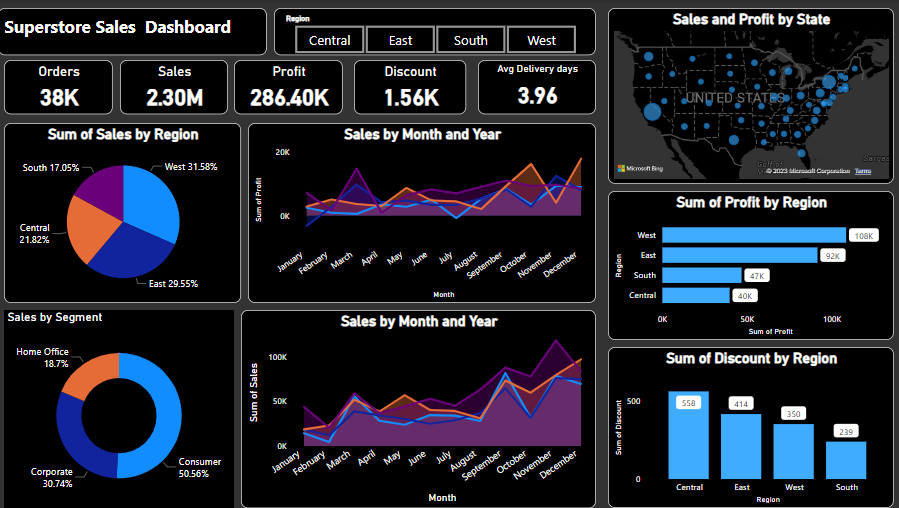

What the dashboard file says about the page in this screenshot:
{"tool":"powerbi","page":{"name":"Sales Dashboard","canvas":[1280,720],"ordinal":0},"visuals":[{"type":"clusteredBarChart","fields":{"Y":["Sum(Sample - Superstore.Profit)"],"Category":["Sample - Superstore.Region"]},"box":[864.6,270.7,405.4,211.2],"z":0},{"type":"pieChart","fields":{"Y":["Sum(Sample - Superstore.Sales)"],"Category":["Sample - Superstore.Region"]},"box":[8.5,174.3,335.9,255.1],"z":1000},{"type":"map","title":"Sales and Profit by State","fields":{"Category":["Sample - Superstore.State"],"Size":["Sum(Sample - Superstore.Sales)"]},"box":[864.6,11.3,405.4,249.4],"z":2000},{"type":"areaChart","title":"Sales by Month and Year","fields":{"Y":["Sum(Sample - Superstore.Sales)"],"Category":["Sample - Superstore.Order Date.Variation.Date Hierarchy.Month"],"Series":["Sample - Superstore.Order Date.Variation.Date Hierarchy.Year"]},"box":[344.4,439.4,503.1,280.6],"z":3000},{"type":"areaChart","title":"Sales by Month and Year","fields":{"Category":["Sample - Superstore.Order Date.Variation.Date Hierarchy.Month"],"Series":["Sample - Superstore.Order Date.Variation.Date Hierarchy.Year"],"Y":["Sum(Sample - Superstore.Profit)"]},"box":[354.3,174.3,493.2,255.1],"z":4000},{"type":"clusteredColumnChart","fields":{"Category":["Sample - Superstore.Region"],"Y":["Sum(Sample - Superstore.Discount)"]},"box":[864.6,491.8,405.4,228.2],"z":5000},{"type":"donutChart","title":"Sales by Segment","fields":{"Y":["Sum(Sample - Superstore.Sales)"],"Category":["Sample - Superstore.Segment"]},"box":[8.5,439.4,326,280.6],"z":6000},{"type":"card","title":"Discount","fields":{"Values":["Sum(Sample - Superstore.Discount)"]},"box":[504.6,85,158.7,76.5],"z":7000},{"type":"card","title":"Profit","fields":{"Values":["Sum(Sample - Superstore.Profit)"]},"box":[334.5,85,154.5,76.5],"z":8000},{"type":"card","title":"Sales","fields":{"Values":["Sum(Sample - Superstore.Sales)"]},"box":[172.9,85,153.1,76.5],"z":9000},{"type":"card","title":"Orders","fields":{"Values":["Sum(Sample - Superstore.Quantity)"]},"box":[8.5,85,154.5,76.5],"z":10000},{"type":"slicer","fields":{"Values":["Sample - Superstore.Region"]},"box":[391.2,11.3,456.4,66.6],"z":11000},{"type":"card","title":"Avg Delivery days","fields":{"Values":["Avg(Sample - Superstore.AvgDelivery)"]},"box":[680.3,85,167.2,76.5],"z":12000},{"type":"textbox","box":[0,11.3,381.3,66.6],"z":13000}]}

Visuals, with their boxes in screenshot pixels (x1, y1, x2, y2), scaled from the page's 1280x720 canvas onto the 899x508 screenshot:
clusteredBarChart - Sum(Sample - Superstore.Profit) x Sample - Superstore.Region: 607, 191, 892, 340
pieChart - Sum(Sample - Superstore.Sales) x Sample - Superstore.Region: 6, 123, 242, 303
"Sales and Profit by State" map: 607, 8, 892, 184
"Sales by Month and Year" areaChart: 242, 310, 595, 507
"Sales by Month and Year" areaChart: 249, 123, 595, 303
clusteredColumnChart - Sample - Superstore.Region x Sum(Sample - Superstore.Discount): 607, 347, 892, 507
"Sales by Segment" donutChart: 6, 310, 235, 507
"Discount" card: 354, 60, 466, 114
"Profit" card: 235, 60, 343, 114
"Sales" card: 121, 60, 229, 114
"Orders" card: 6, 60, 114, 114
slicer - Sample - Superstore.Region: 275, 8, 595, 55
"Avg Delivery days" card: 478, 60, 595, 114
textbox: 0, 8, 268, 55
